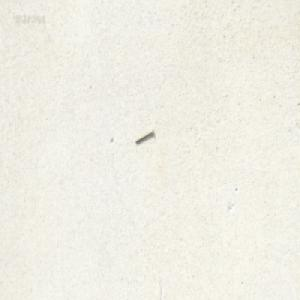Bolt: (134, 128, 153, 144)
